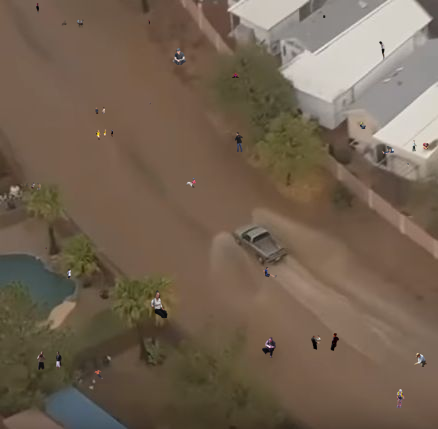Human: (37, 351, 64, 370), (311, 333, 339, 351), (150, 290, 168, 318), (61, 19, 94, 28), (262, 337, 276, 358), (172, 48, 186, 65), (412, 140, 429, 152), (395, 389, 405, 408), (96, 129, 113, 140), (414, 353, 427, 367), (234, 132, 243, 152), (263, 267, 277, 278), (26, 182, 41, 192), (379, 41, 385, 60), (94, 369, 105, 379), (186, 178, 196, 188), (382, 146, 394, 154), (95, 107, 105, 114), (106, 354, 112, 364), (88, 384, 94, 393), (360, 122, 366, 129), (232, 72, 239, 78), (67, 269, 71, 279), (36, 3, 39, 14), (147, 19, 150, 25), (323, 15, 326, 18), (407, 163, 409, 167), (45, 247, 47, 250), (149, 102, 151, 105)
